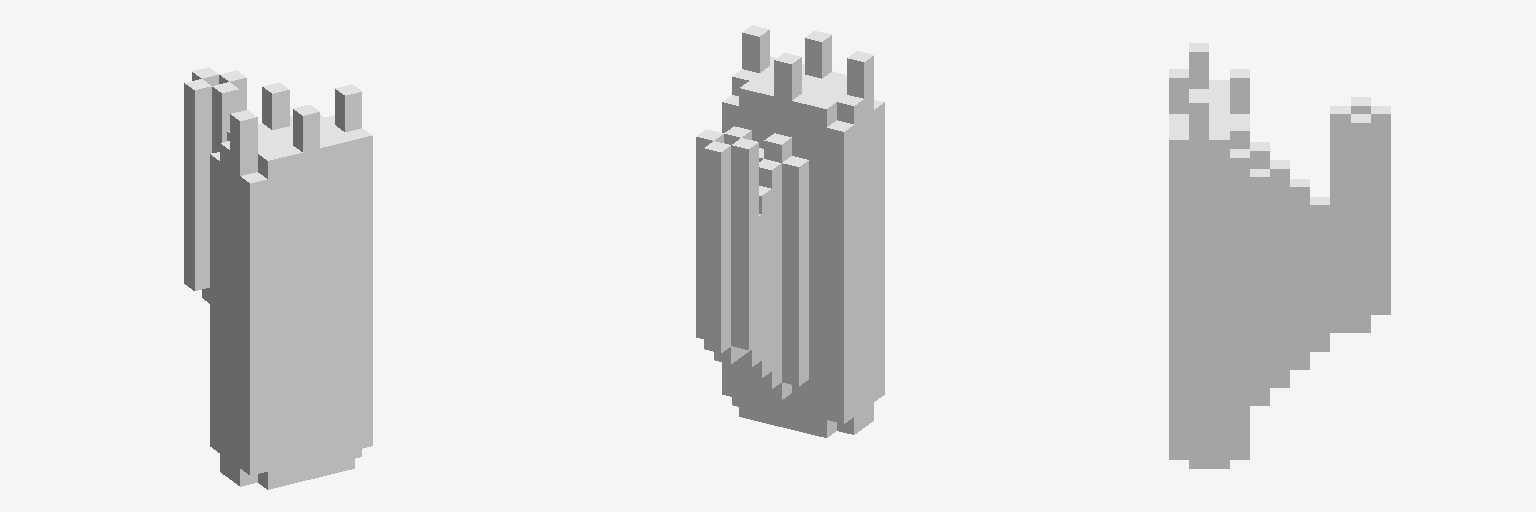
The model's file is Alexandre.obj.
The picture shows the model from 3 angles: view 1: azimuth 30°, elevation 25°; view 2: azimuth 150°, elevation 25°; view 3: azimuth 270°, elevation 25°; orthographic projection.
Parts seen in each view (by area): view 1: Alexandre; view 2: Alexandre; view 3: Alexandre.
Boxes of the visible parts, x1,y1,x2,y2 form: Alexandre: [184, 67, 372, 489]; Alexandre: [696, 25, 884, 437]; Alexandre: [1169, 43, 1390, 468].
Size of the model in its own units: 7 by 20 by 11.